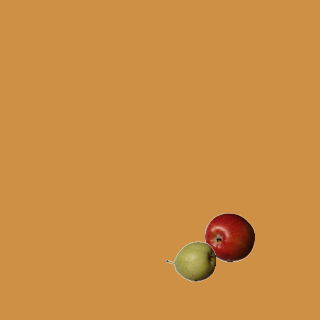Apple Braeburn: (204, 212, 254, 262)
Pear: (165, 236, 215, 286)
